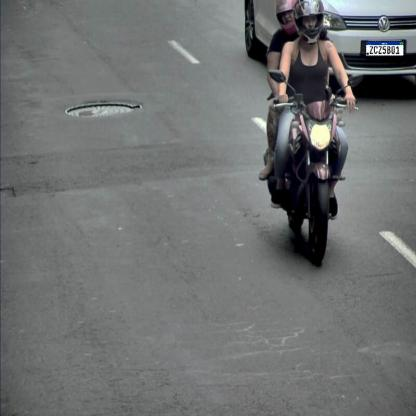PlacaM: (366, 41, 404, 56)
